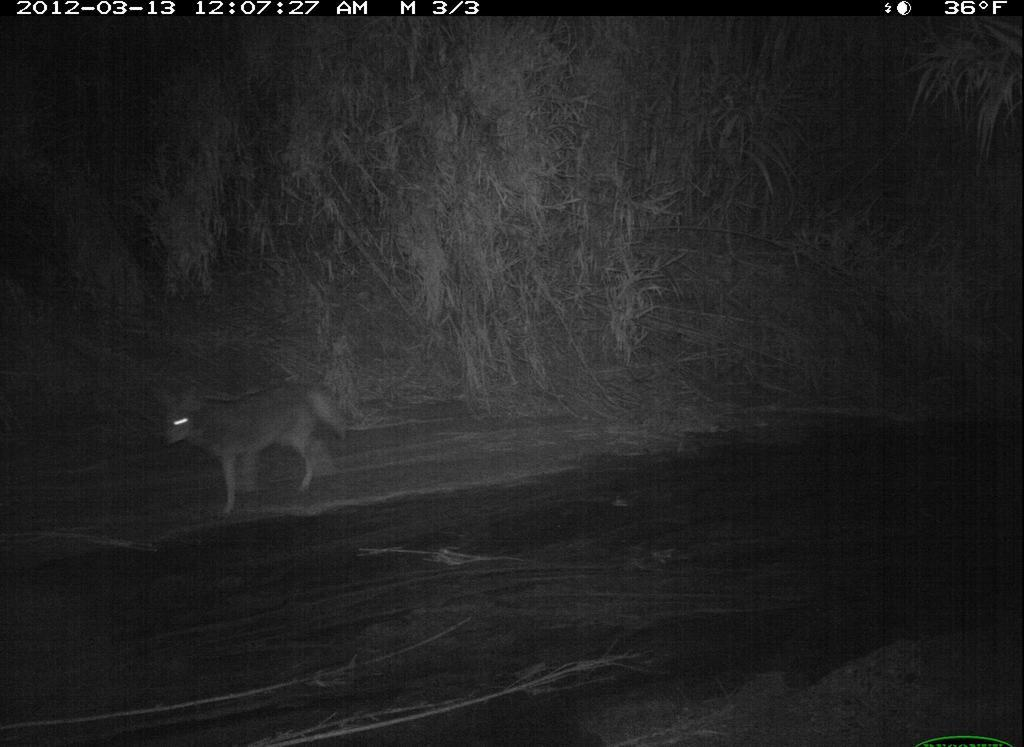coyote: (154, 378, 361, 527)
